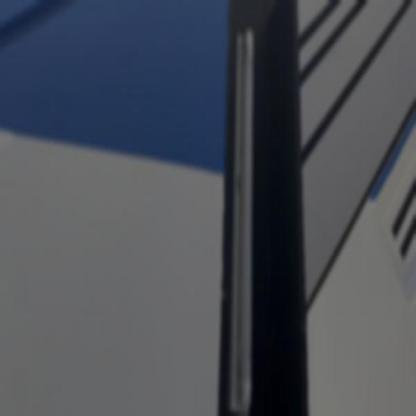light_off: (216, 21, 269, 414)
